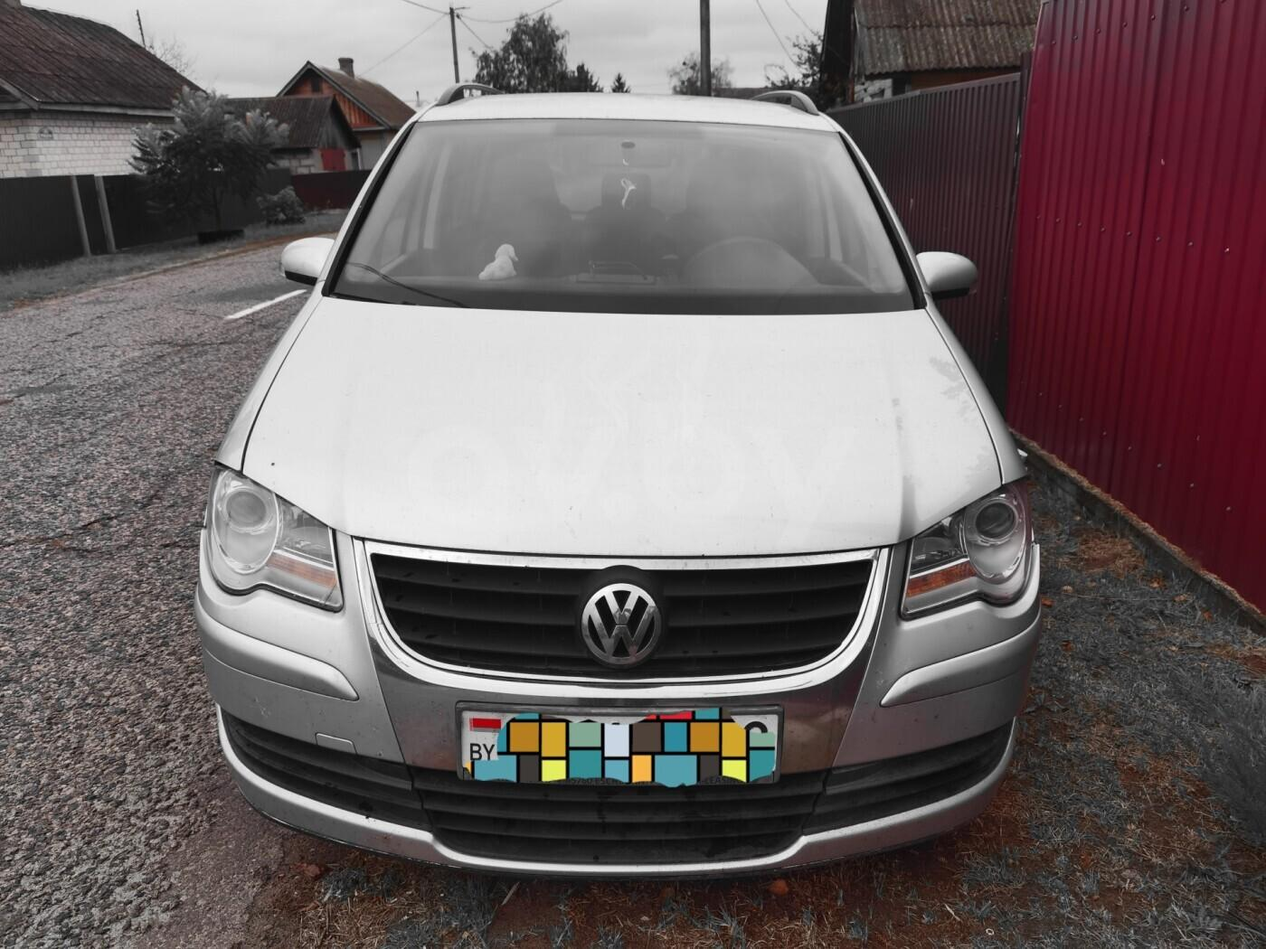Touran_2006-2010: (189, 84, 1033, 887)
